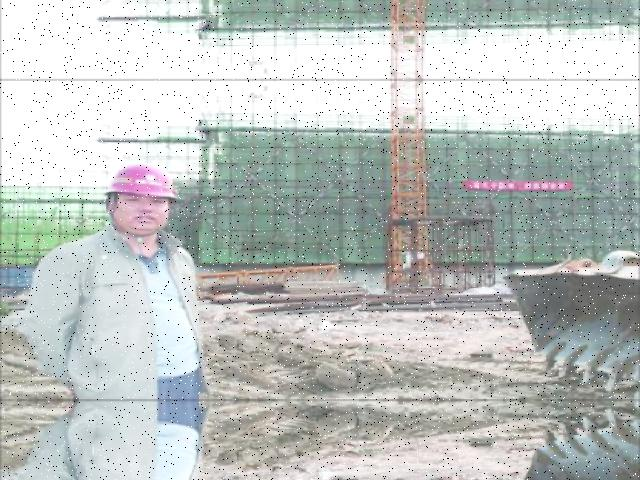Helmet: (102, 158, 187, 212)
